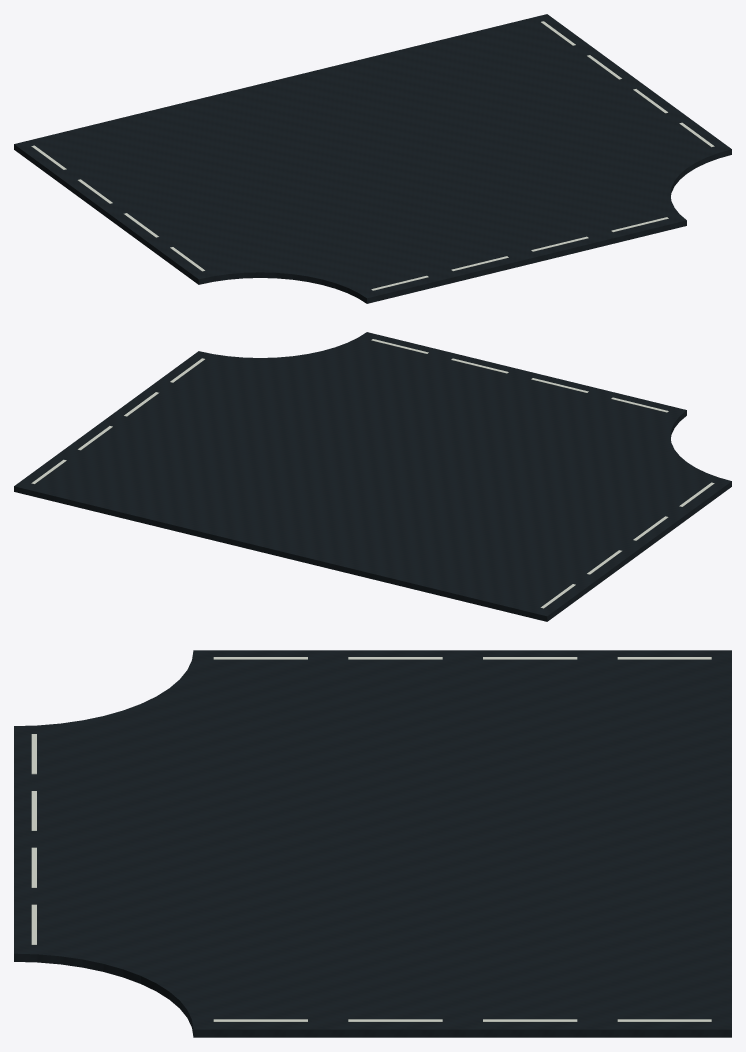
The model's file is Transit_Road_4L_TJunction_R4.glb.
3 renders of one model, top to bottom at view 1: azimuth 30°, elevation 25°; view 2: azimuth 150°, elevation 25°; view 3: azimuth 270°, elevation 25°, orthographic. The views are drawn at different scales.
Visible parts, largest first — view 1: Transit_Road_4L_TJunction_R4_Surface, Transit_Road_4L_TJunction_R4_MarkStop2, Transit_Road_4L_TJunction_R4_MarkStop1, Transit_Road_4L_TJunction_R4_MarkStop0; view 2: Transit_Road_4L_TJunction_R4_Surface, Transit_Road_4L_TJunction_R4_MarkStop2, Transit_Road_4L_TJunction_R4_MarkStop0, Transit_Road_4L_TJunction_R4_MarkStop1; view 3: Transit_Road_4L_TJunction_R4_Surface, Transit_Road_4L_TJunction_R4_MarkStop0, Transit_Road_4L_TJunction_R4_MarkStop1, Transit_Road_4L_TJunction_R4_MarkStop2.
Boxes of the visible parts, <box> form: Transit_Road_4L_TJunction_R4_Surface: <box>14,14,731,303</box>; Transit_Road_4L_TJunction_R4_MarkStop2: <box>371,217,668,290</box>; Transit_Road_4L_TJunction_R4_MarkStop1: <box>541,21,714,147</box>; Transit_Road_4L_TJunction_R4_MarkStop0: <box>31,145,204,271</box>; Transit_Road_4L_TJunction_R4_Surface: <box>14,332,731,621</box>; Transit_Road_4L_TJunction_R4_MarkStop2: <box>371,339,668,412</box>; Transit_Road_4L_TJunction_R4_MarkStop0: <box>540,482,714,608</box>; Transit_Road_4L_TJunction_R4_MarkStop1: <box>31,358,204,484</box>; Transit_Road_4L_TJunction_R4_Surface: <box>14,650,731,1037</box>; Transit_Road_4L_TJunction_R4_MarkStop0: <box>213,657,711,659</box>; Transit_Road_4L_TJunction_R4_MarkStop1: <box>213,1019,711,1021</box>; Transit_Road_4L_TJunction_R4_MarkStop2: <box>31,734,36,944</box>.
Bounding box in the file's own units: 20 × 0.2165 × 16.
2 materials, 1 textured.
